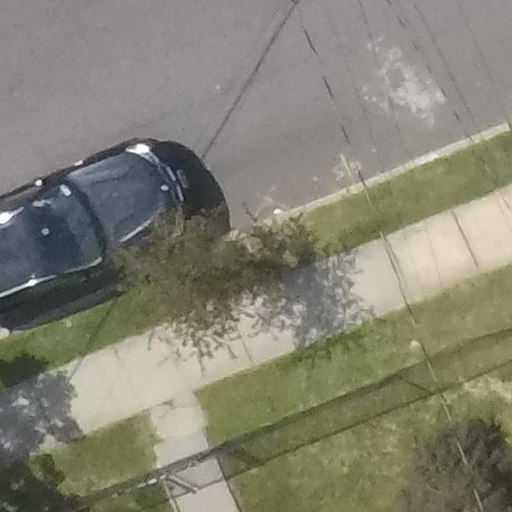car: (1, 114, 180, 320)
fence: (55, 326, 508, 512)
